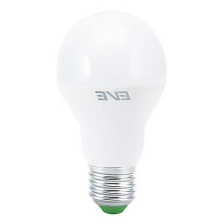light_bulb: (53, 6, 171, 216)
